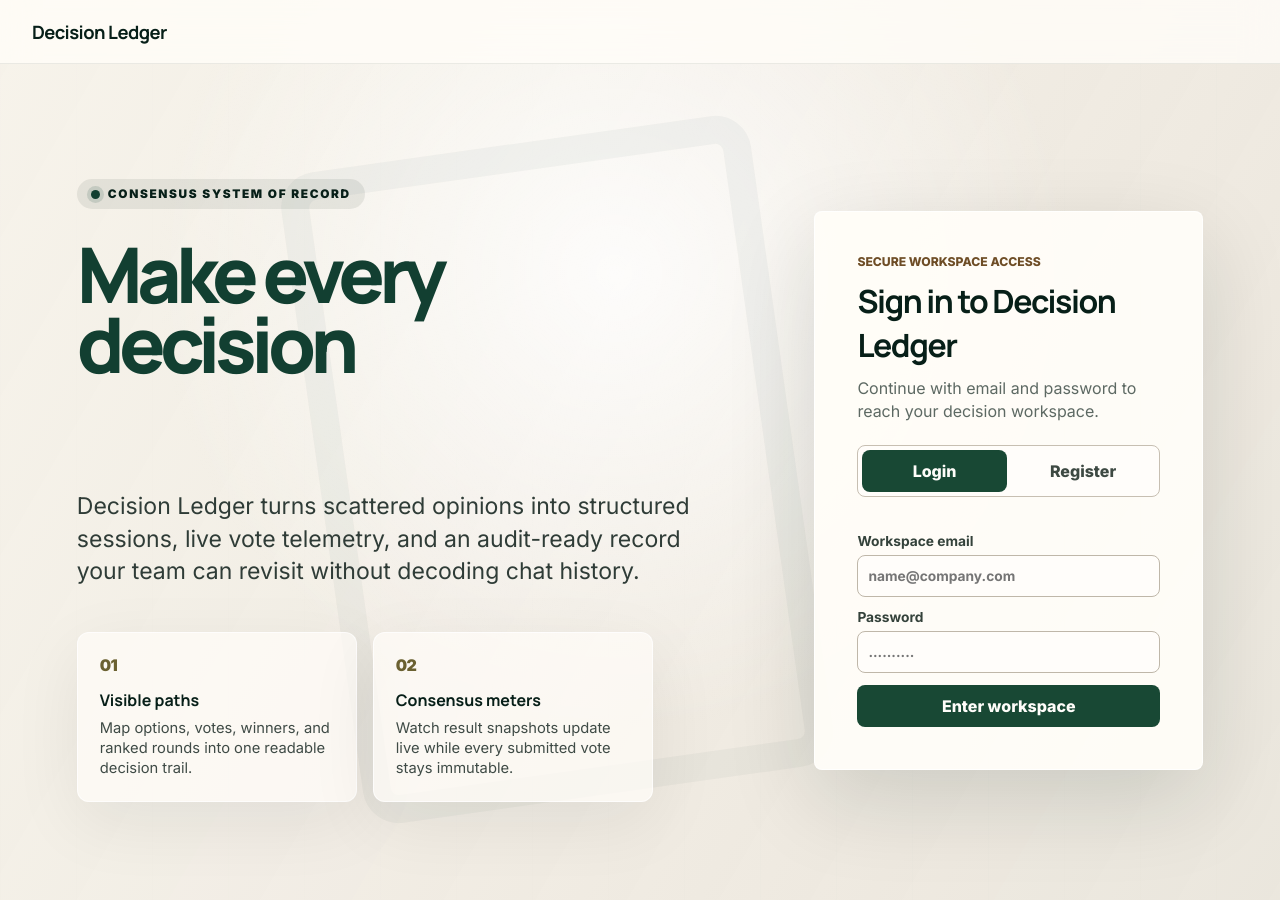
Test: auth flow › register mode remains email and password only
Click the button "Register": (1083, 471) left=1011, top=450, right=1155, bottom=492
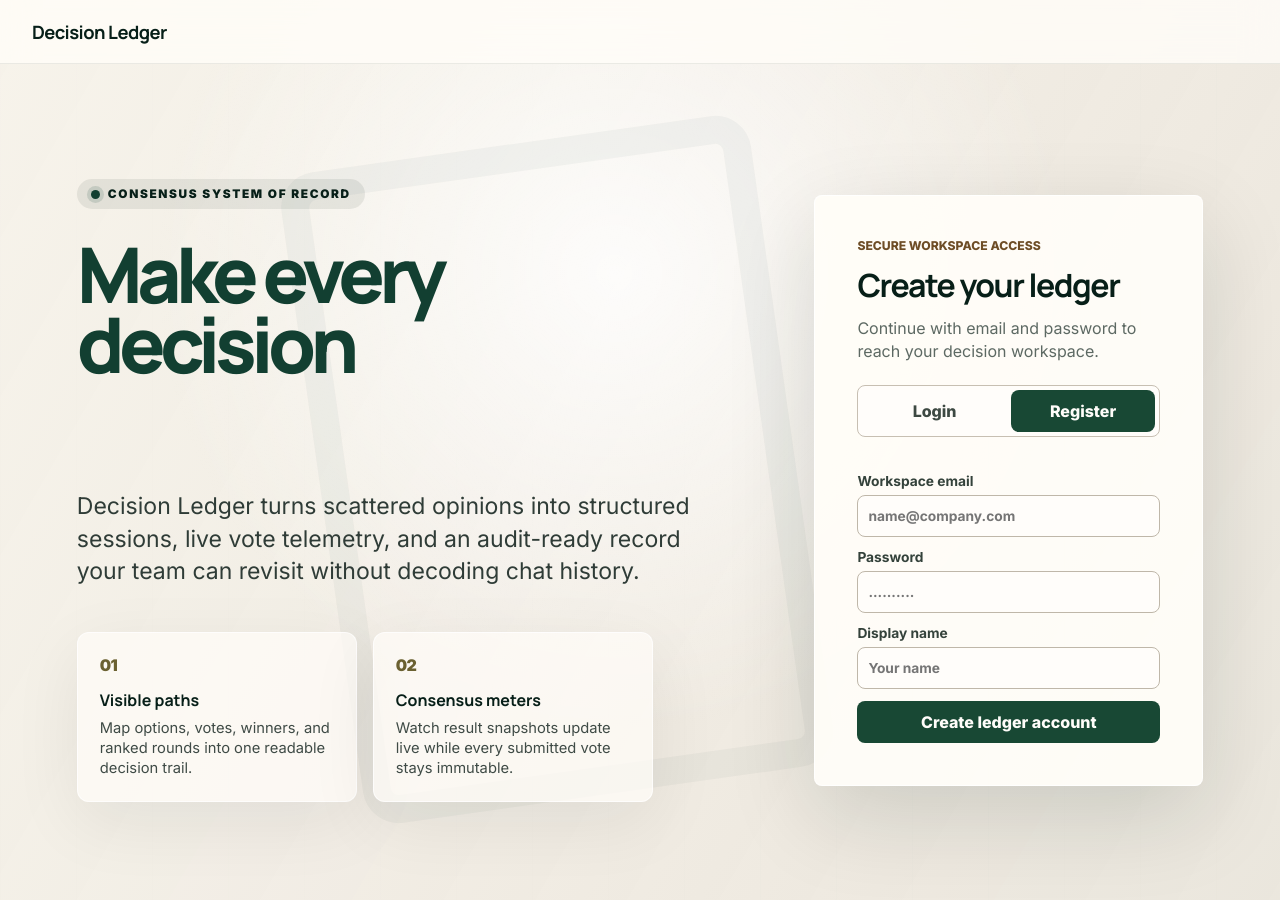
Expected: the field labelled "Display name" is shown, left=857, top=647, right=1160, bottom=689
In the field labelled "Workspace email": (1009, 516) left=857, top=495, right=1160, bottom=537, type "owner@example.test"
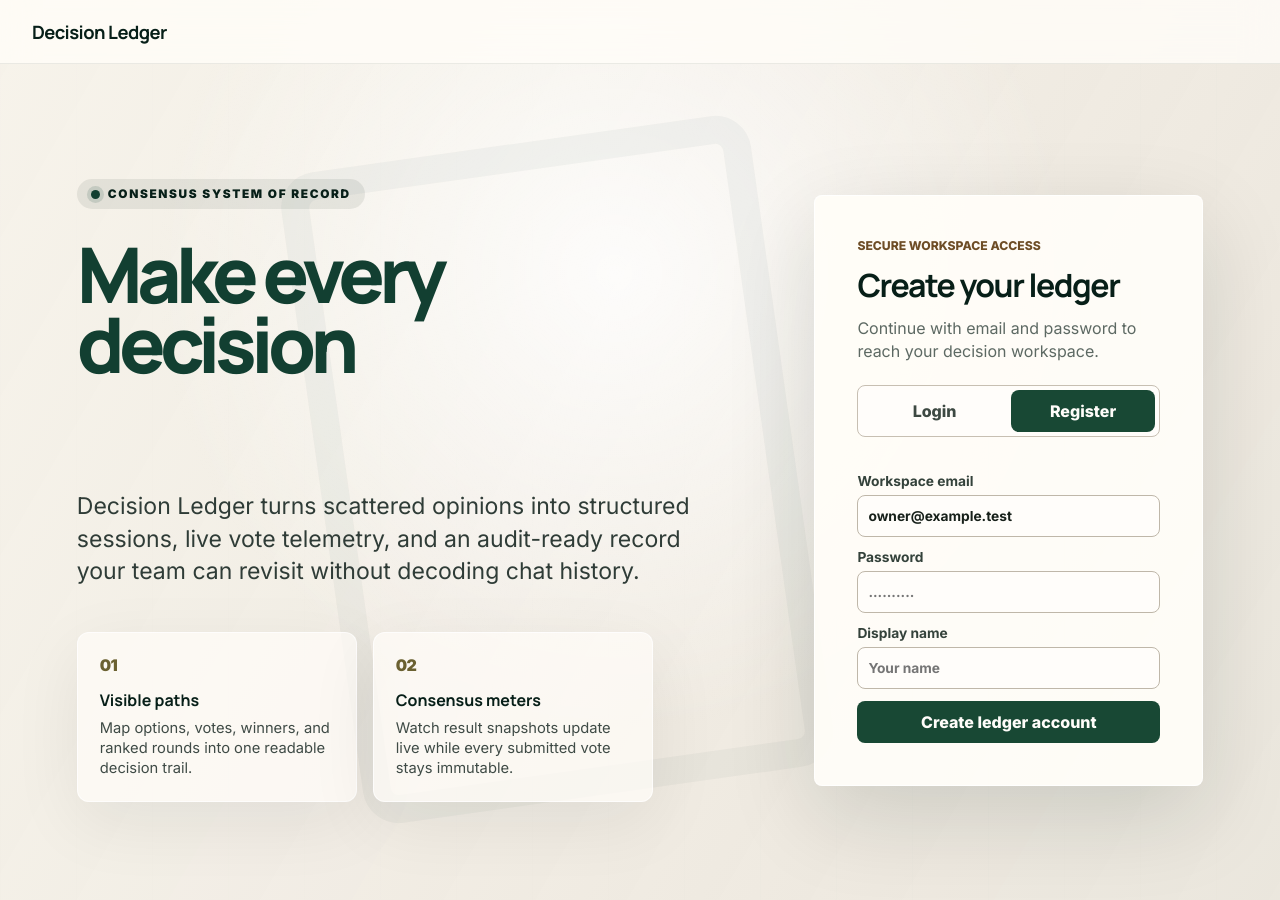
In the password field labelled "Password": (1009, 592) left=857, top=571, right=1160, bottom=613, type "secret-password"
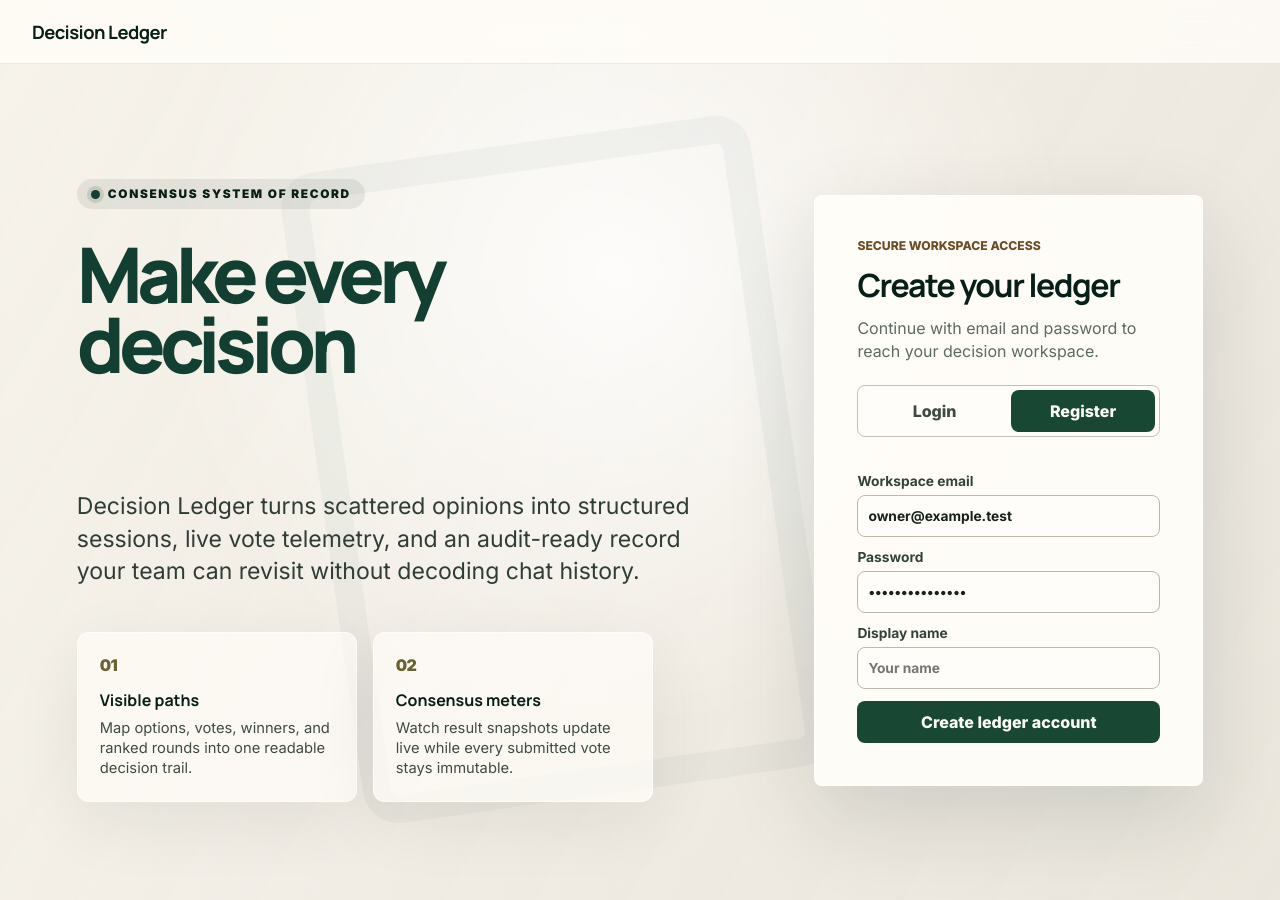
In the field labelled "Display name": (1009, 668) left=857, top=647, right=1160, bottom=689, type "Owner"
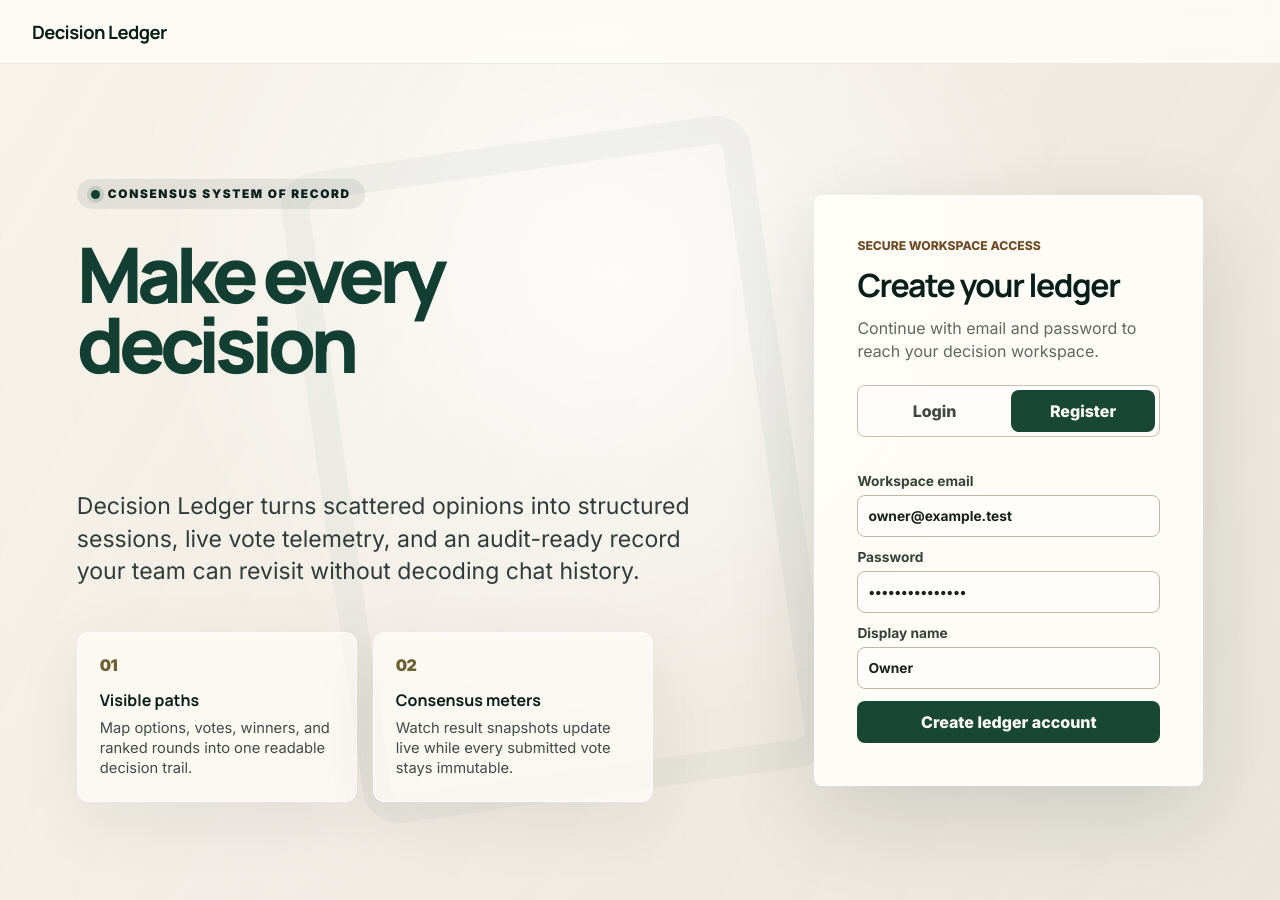
Click the button "Create ledger account": (1009, 722) left=857, top=701, right=1160, bottom=743
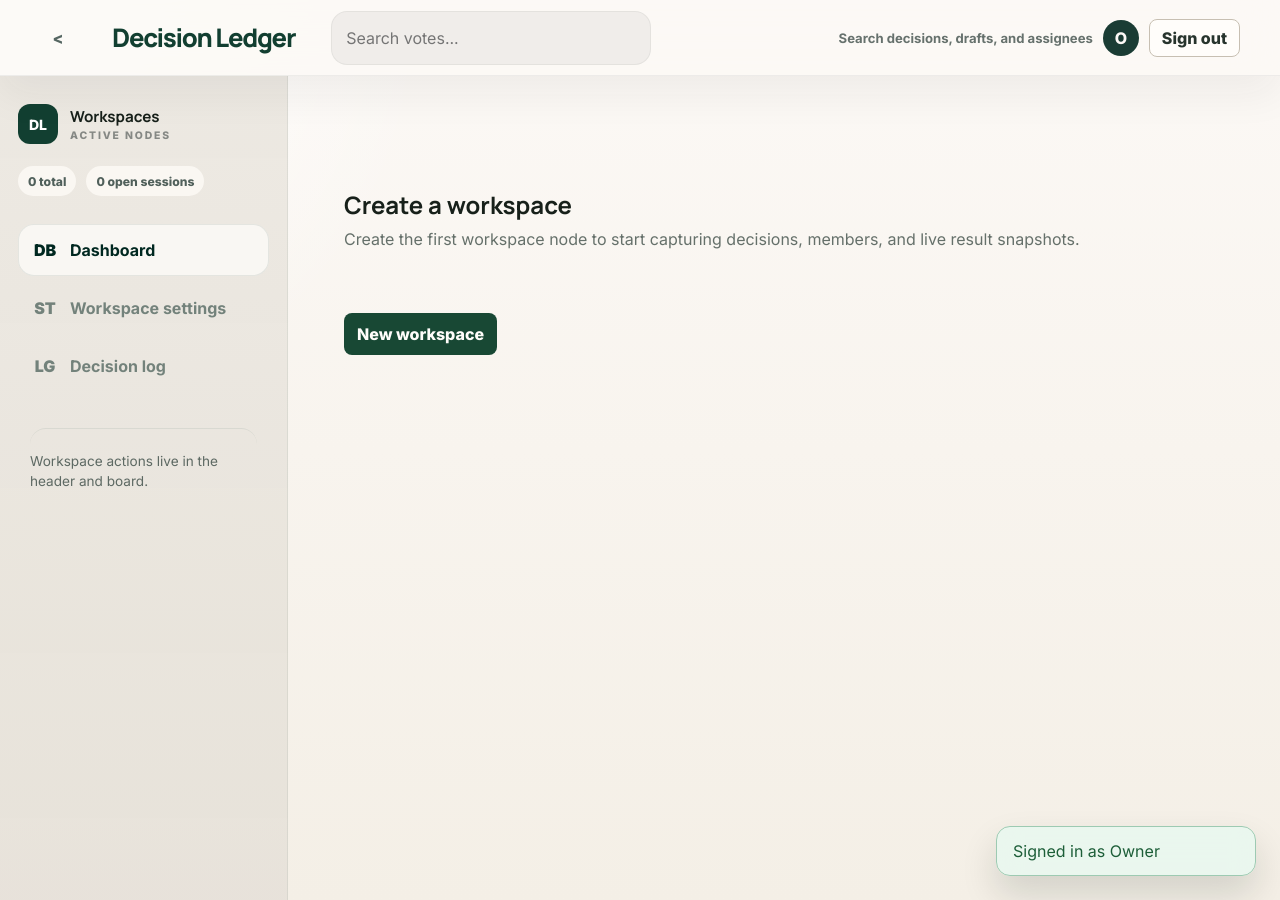
Expected: the button "New workspace" is shown, left=344, top=313, right=497, bottom=355
Expected: the field labelled "Search votes" is shown, left=346, top=20, right=636, bottom=56
